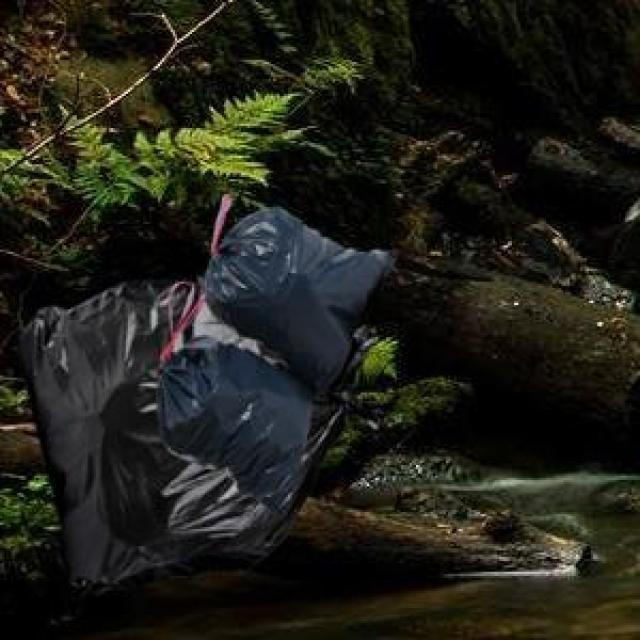waste: (22, 208, 392, 581)
